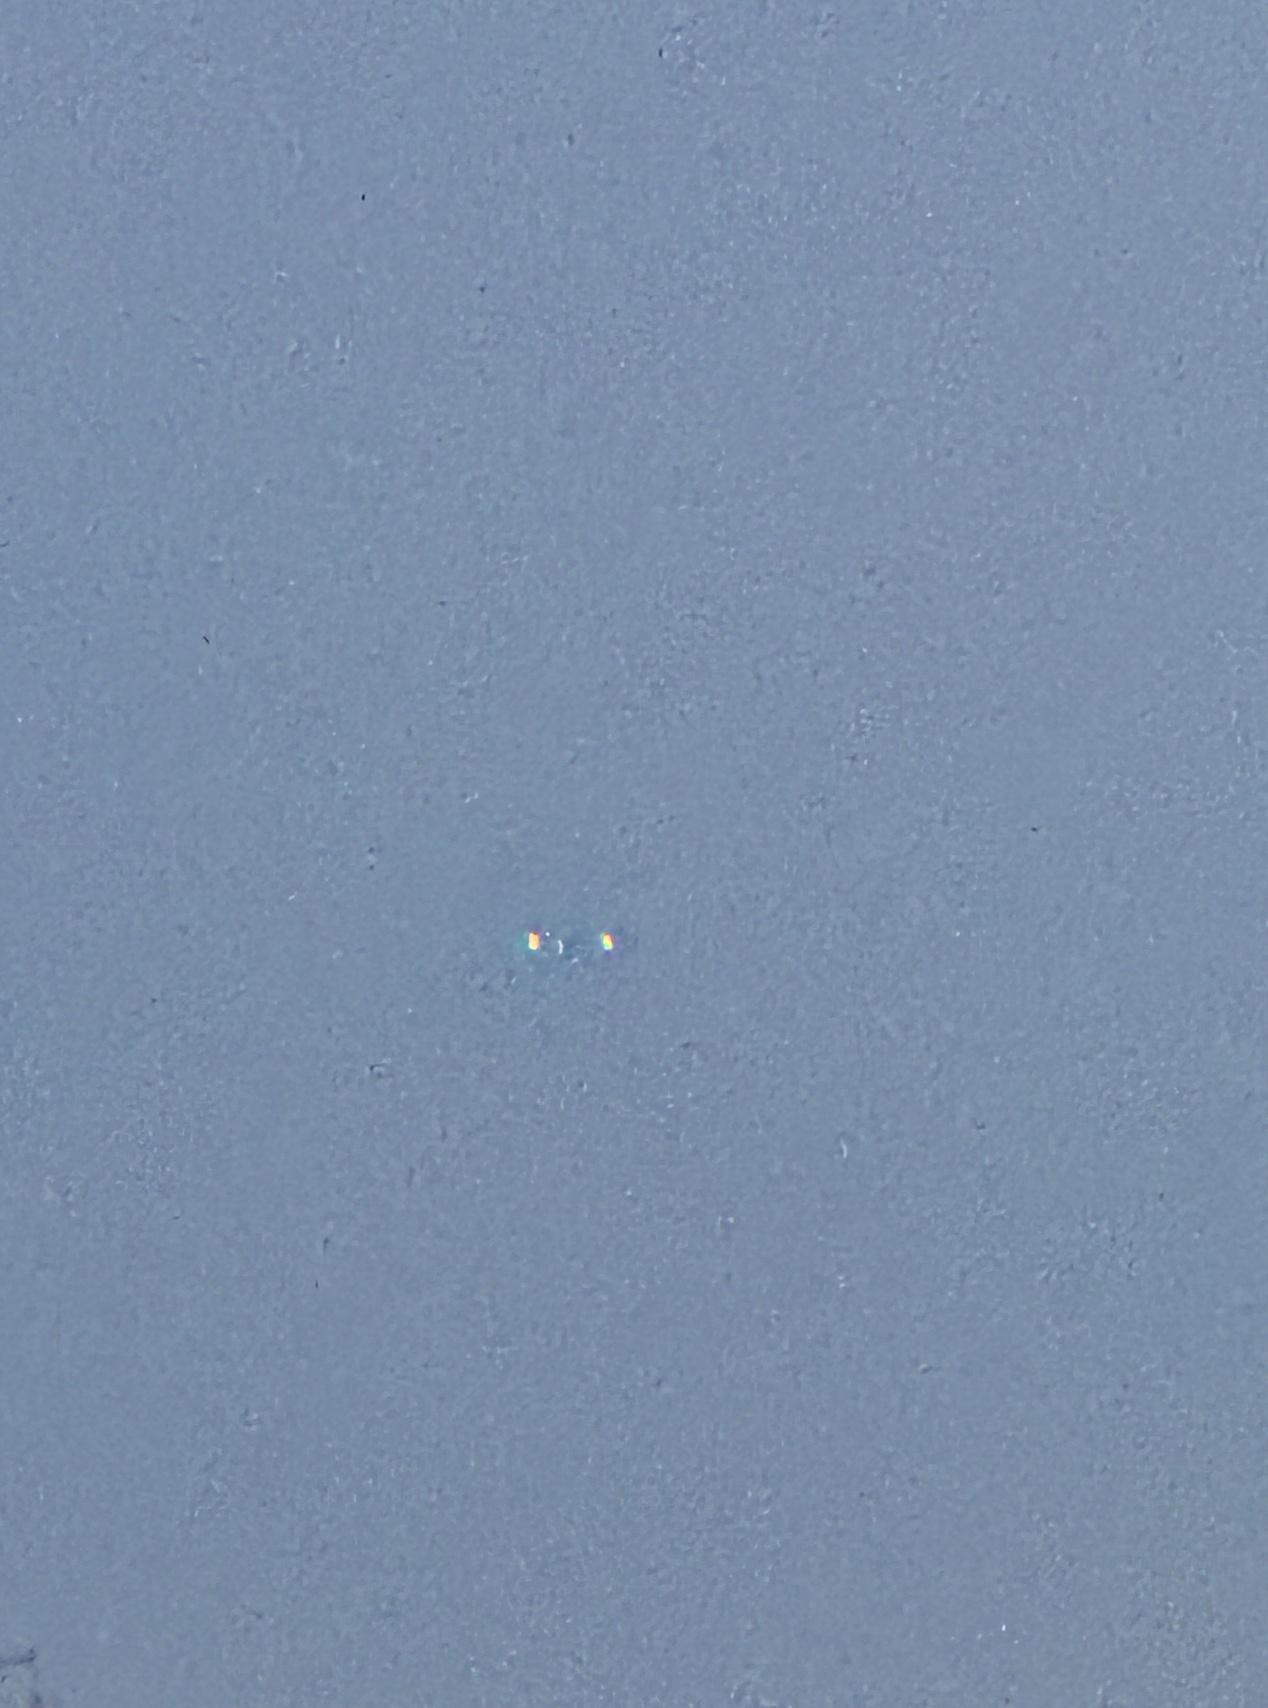Plane: (464, 909, 661, 972)
